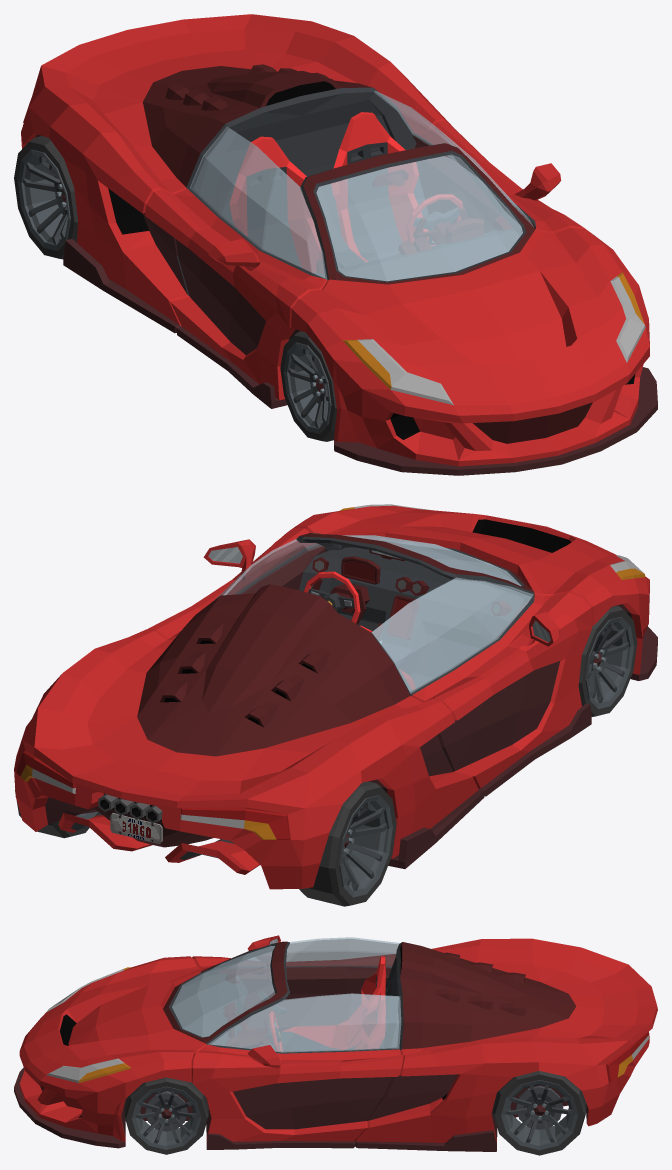
Rendered from car-super.glb.
3 renders of one model, top to bottom at view 1: azimuth 30°, elevation 25°; view 2: azimuth 150°, elevation 25°; view 3: azimuth 270°, elevation 25°, orthographic. The views are drawn at different scales.
Parts seen in each view (by area): view 1: SM_Veh_Supercar_02, SM_Veh_Supercar_02_Door_R, SM_Veh_Supercar_02_Glass, SM_Veh_Supercar_02_Door_R_Glass, SM_Veh_Supercar_02_Door_L, SM_Veh_Supercar_02_Wheel_RR, SM_Veh_Supercar_02_Wheel_FR, SM_Veh_Supercar_02_Door_L_Glass, SM_Veh_Supercar_02_Steering_W; view 2: SM_Veh_Supercar_02, SM_Veh_Supercar_02_Door_R, SM_Veh_Supercar_02_Door_R_Glass, SM_Veh_Supercar_02_Wheel_RR, SM_Veh_Supercar_02_Door_L, SM_Veh_Supercar_02_Wheel_FR, SM_Veh_Supercar_02_Glass, SM_Veh_Supercar_02_Door_L_Glass, SM_Veh_Supercar_02_Steering_W; view 3: SM_Veh_Supercar_02, SM_Veh_Supercar_02_Door_L, SM_Veh_Supercar_02_Door_L_Glass, SM_Veh_Supercar_02_Door_R, SM_Veh_Supercar_02_Wheel_RL, SM_Veh_Supercar_02_Glass, SM_Veh_Supercar_02_Wheel_FL, SM_Veh_Supercar_02_Door_R_Glass, SM_Veh_Supercar_02_Steering_W.
Boxes of the visible parts, <box> form: SM_Veh_Supercar_02: <box>21,14,657,475</box>; SM_Veh_Supercar_02_Door_R: <box>144,188,327,408</box>; SM_Veh_Supercar_02_Glass: <box>316,154,522,281</box>; SM_Veh_Supercar_02_Door_R_Glass: <box>190,126,327,279</box>; SM_Veh_Supercar_02_Door_L: <box>412,120,585,233</box>; SM_Veh_Supercar_02_Wheel_RR: <box>14,136,77,259</box>; SM_Veh_Supercar_02_Wheel_FR: <box>280,331,336,441</box>; SM_Veh_Supercar_02_Door_L_Glass: <box>374,90,533,226</box>; SM_Veh_Supercar_02_Steering_W: <box>406,194,462,245</box>; SM_Veh_Supercar_02: <box>14,504,657,889</box>; SM_Veh_Supercar_02_Door_R: <box>410,592,592,796</box>; SM_Veh_Supercar_02_Door_R_Glass: <box>371,577,533,693</box>; SM_Veh_Supercar_02_Wheel_RR: <box>299,781,396,906</box>; SM_Veh_Supercar_02_Door_L: <box>147,527,325,639</box>; SM_Veh_Supercar_02_Wheel_FR: <box>578,605,637,716</box>; SM_Veh_Supercar_02_Glass: <box>342,535,521,586</box>; SM_Veh_Supercar_02_Door_L_Glass: <box>214,539,322,600</box>; SM_Veh_Supercar_02_Steering_W: <box>303,571,360,623</box>; SM_Veh_Supercar_02: <box>14,938,657,1151</box>; SM_Veh_Supercar_02_Door_L: <box>191,1044,403,1149</box>; SM_Veh_Supercar_02_Door_L_Glass: <box>208,993,401,1052</box>; SM_Veh_Supercar_02_Door_R: <box>192,935,395,1034</box>; SM_Veh_Supercar_02_Wheel_RL: <box>493,1071,586,1155</box>; SM_Veh_Supercar_02_Glass: <box>172,946,275,1037</box>; SM_Veh_Supercar_02_Wheel_FL: <box>124,1077,208,1154</box>; SM_Veh_Supercar_02_Door_R_Glass: <box>230,937,399,968</box>; SM_Veh_Supercar_02_Steering_W: <box>266,1011,282,1051</box>.
Bounding box in the file's own units: 2.07 × 1.16 × 4.5.
2 materials, 1 textured.
